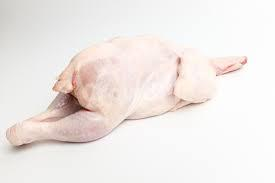chicken: (3, 9, 107, 43)
